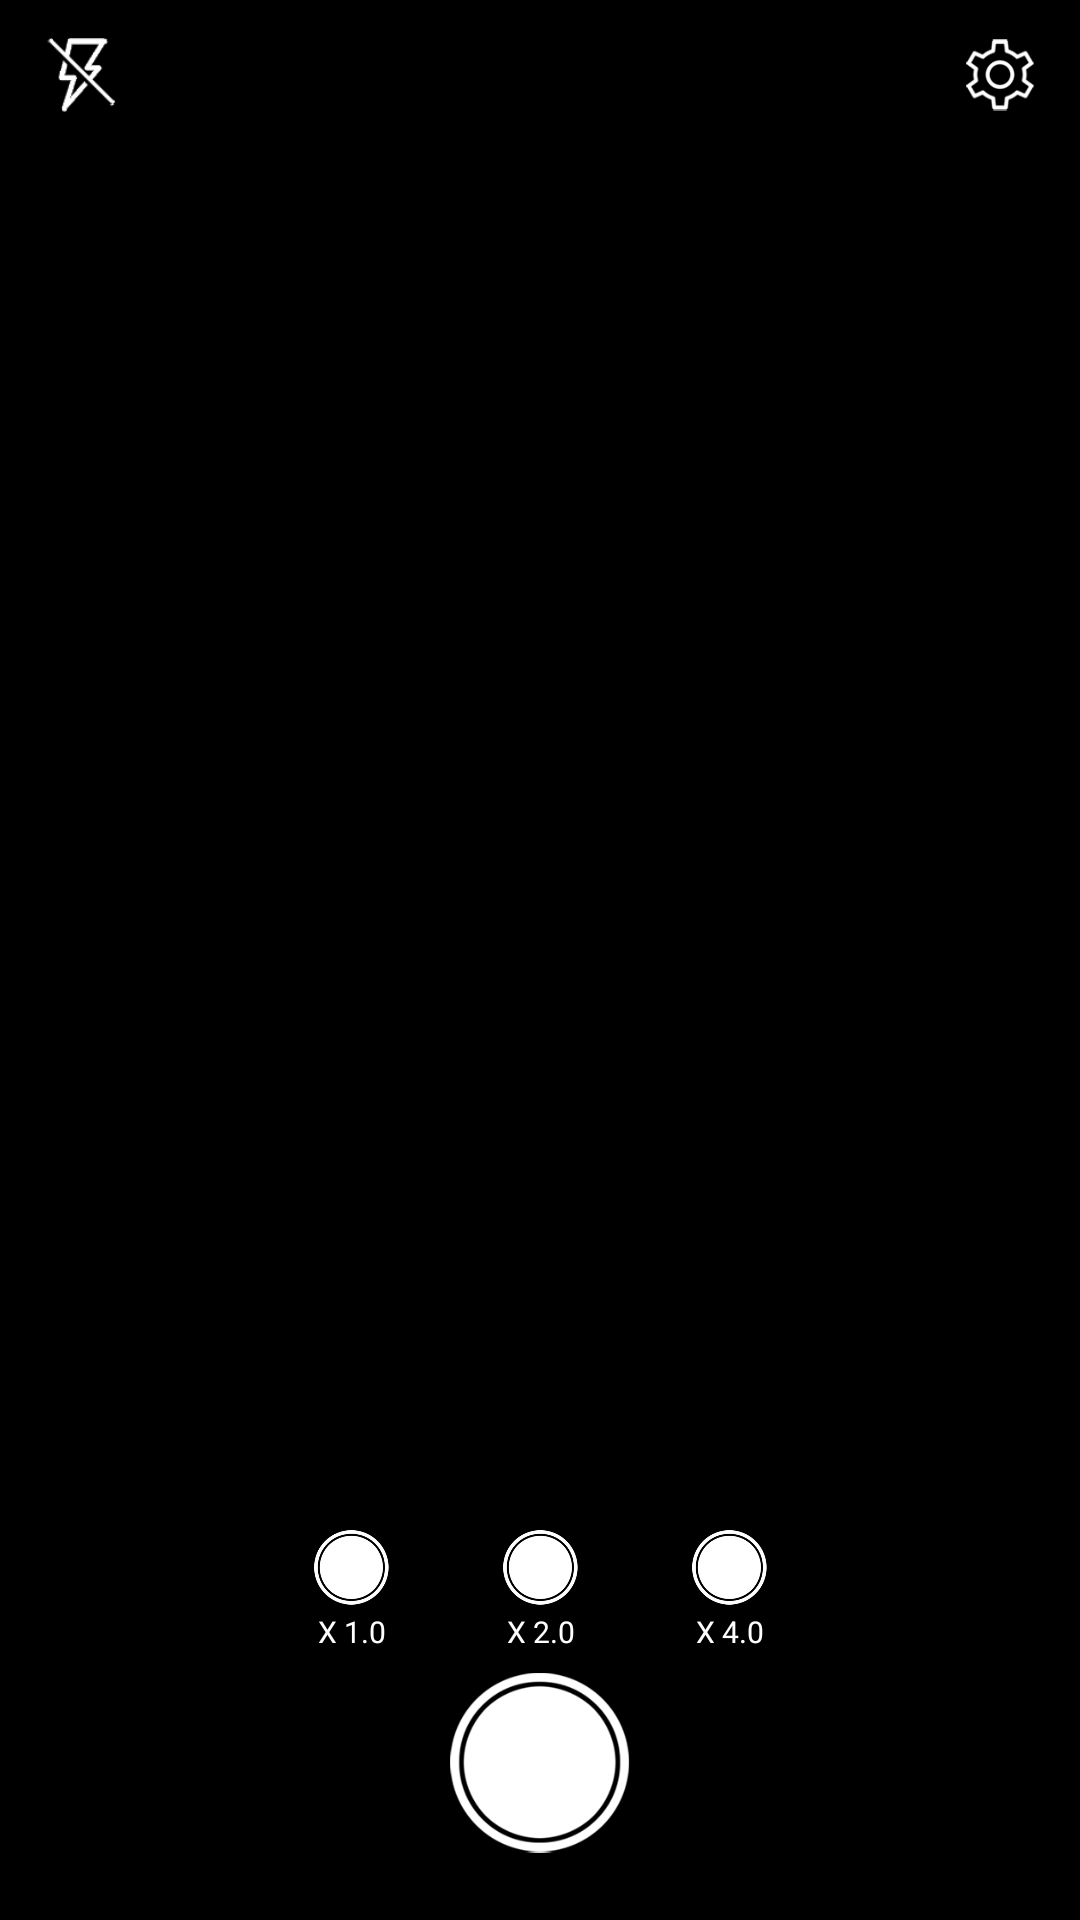

Icons on this 1080*1920 Android screen, each with its box as {"left": x1, "top": y1, "right": x2, "bottom": y2}:
flash off: {"left": 47, "top": 38, "right": 115, "bottom": 112}
setting: {"left": 966, "top": 39, "right": 1034, "bottom": 111}
